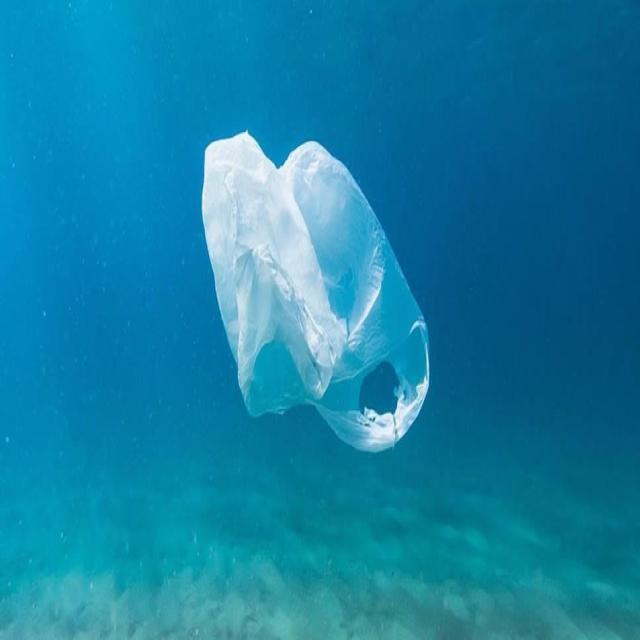plastic_bag: (196, 118, 439, 470)
